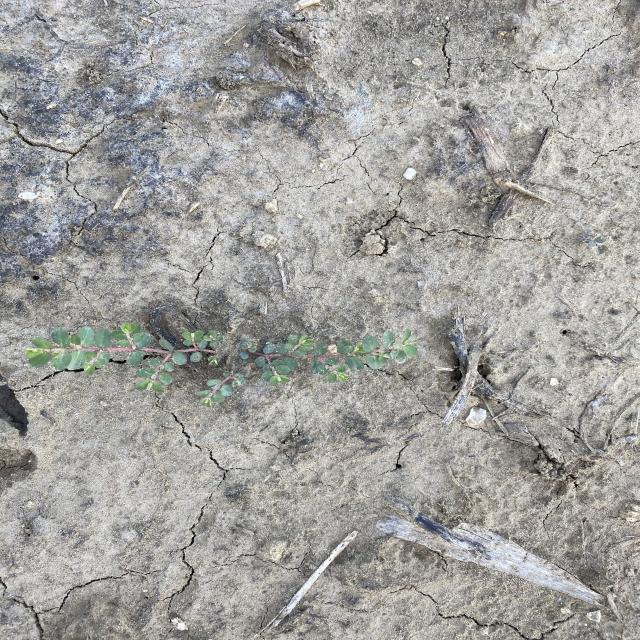SpottedSpurge: (21, 322, 422, 407)
